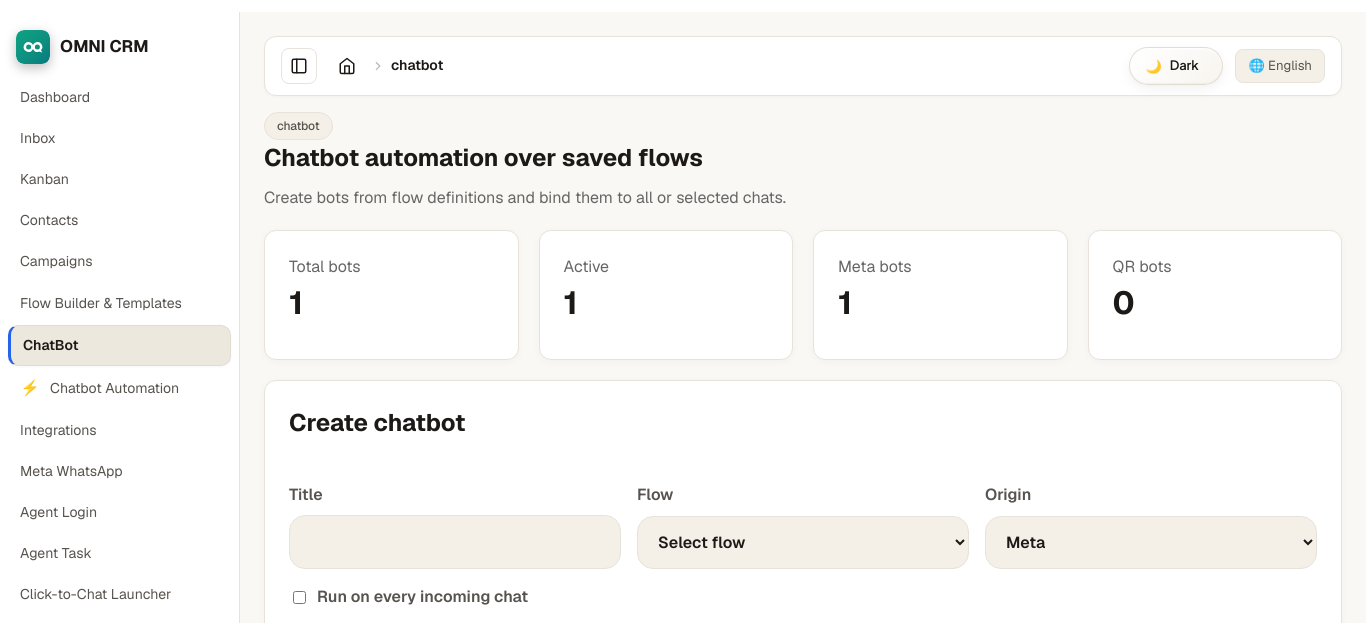
App routing shell › renders chatbot targeting and creates an all-chat Meta bot
This screenshot has width=1366, height=623.
Expected: the heading "Chatbot automation over saved flows" is shown, [264,142,703,173]
Expected: the text "Total bots" is shown, [289,256,361,277]
In the field labelled "Title": (455,542) [289,515,621,569], type "Support intake bot"
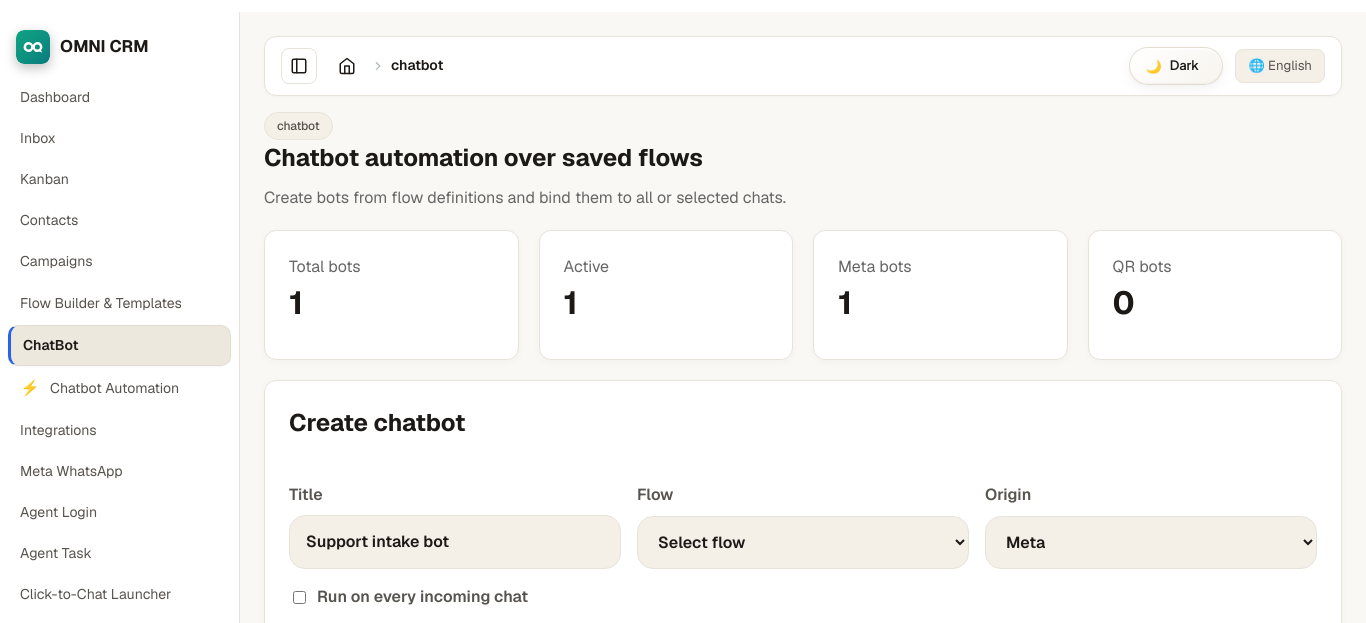
Select "Sales intake" in the dropdown labelled "Flow": (803,542) [637,516,969,569]
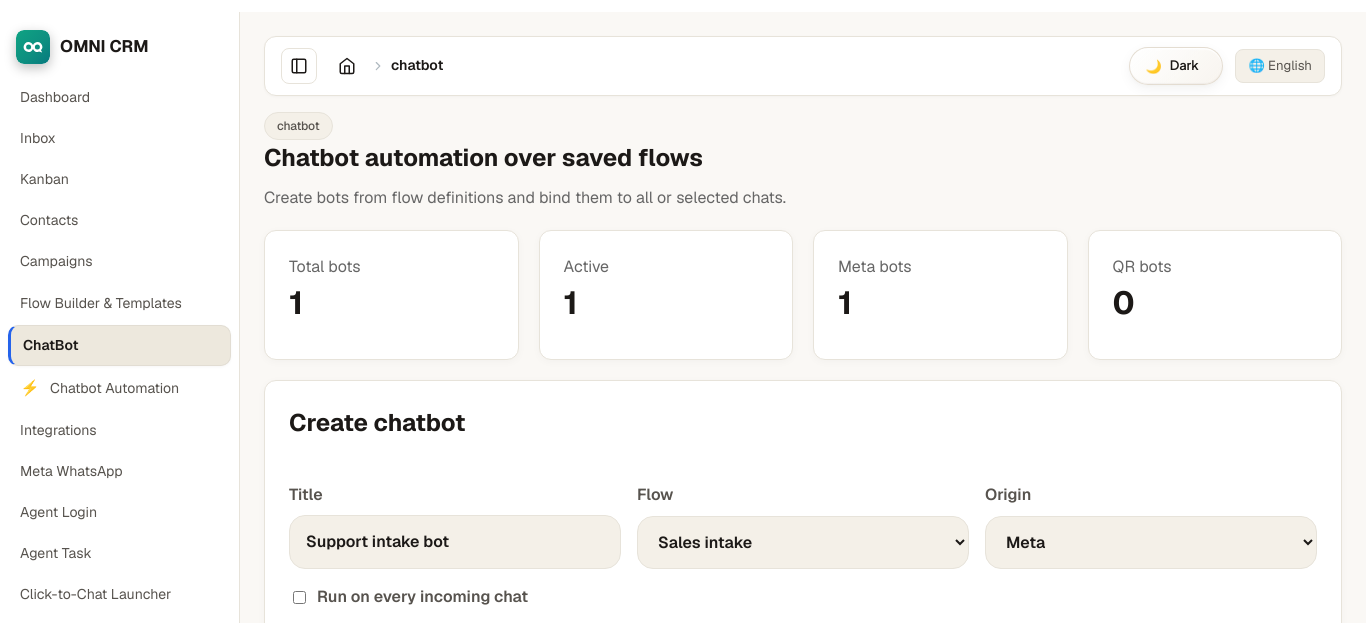
Click the checkbox labelled "Run on every incoming chat": (300,597) [293,590,306,604]
(page scrolled)
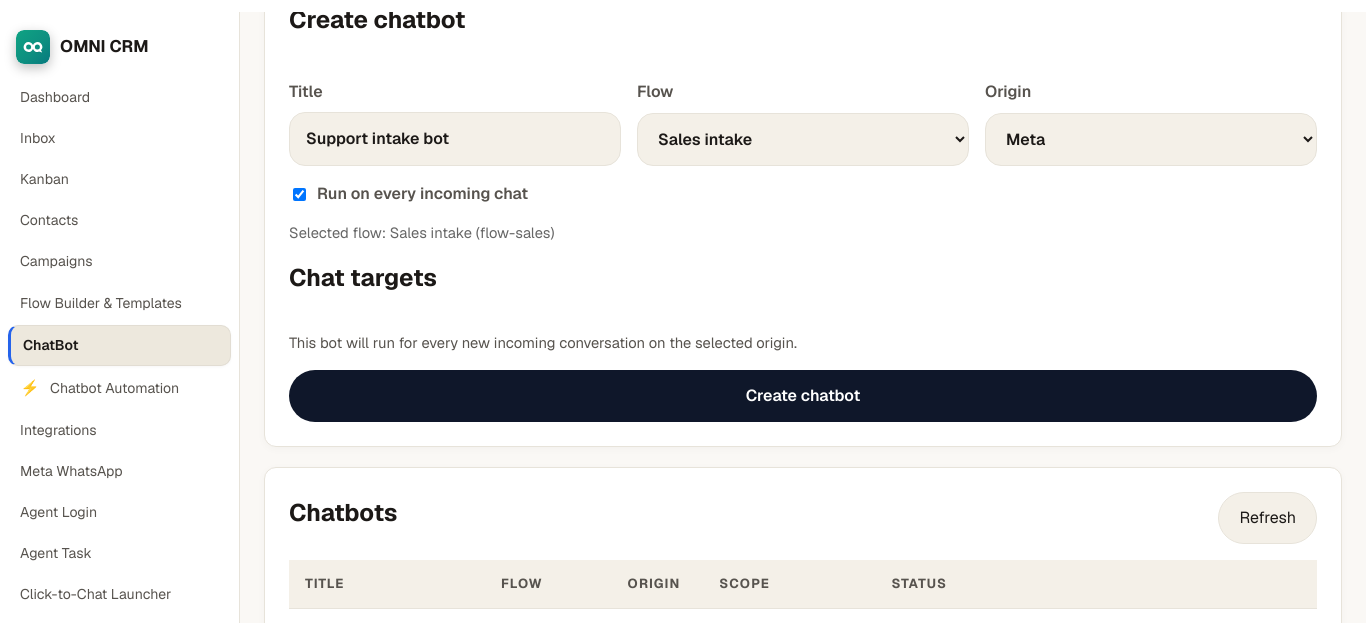
Result: the text "This bot will run for every new incoming conversation on the selected origin." is shown at [289,333,797,352]
Click the button "Create chatbot": (803,396) [289,370,1317,422]
(page scrolled)
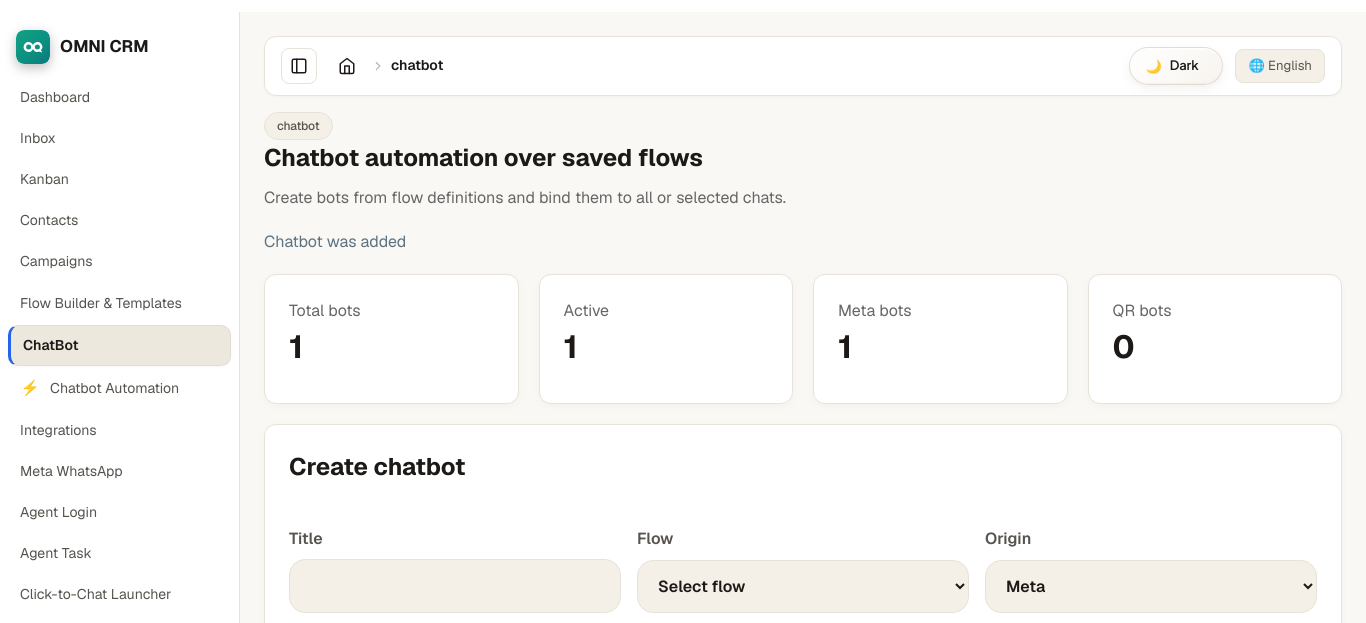
Result: the text "Chatbot was added" is shown at [264,231,406,252]
